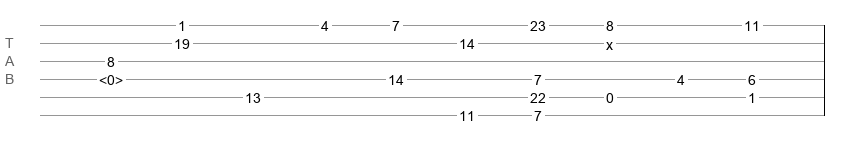0: (606, 90, 614, 100)
1: (178, 18, 186, 28), (748, 90, 756, 100)
11: (459, 108, 475, 118), (744, 18, 760, 28)
13: (245, 90, 261, 100)
14: (388, 72, 404, 82), (459, 36, 475, 46)
19: (174, 36, 190, 46)
22: (530, 90, 546, 100)
23: (530, 18, 546, 28)
4: (321, 18, 329, 28), (677, 72, 685, 82)
6: (748, 72, 756, 82)
7: (392, 18, 400, 28), (534, 72, 542, 82), (534, 108, 542, 118)
8: (107, 54, 115, 64), (606, 18, 614, 28)
harmonic: (99, 72, 123, 82)
x: (606, 37, 613, 45)
